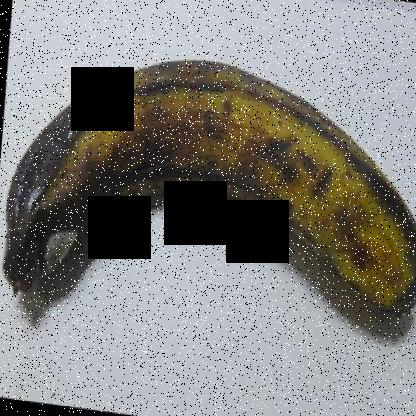overripe: (6, 39, 415, 387)
rotten: (3, 101, 137, 285)
